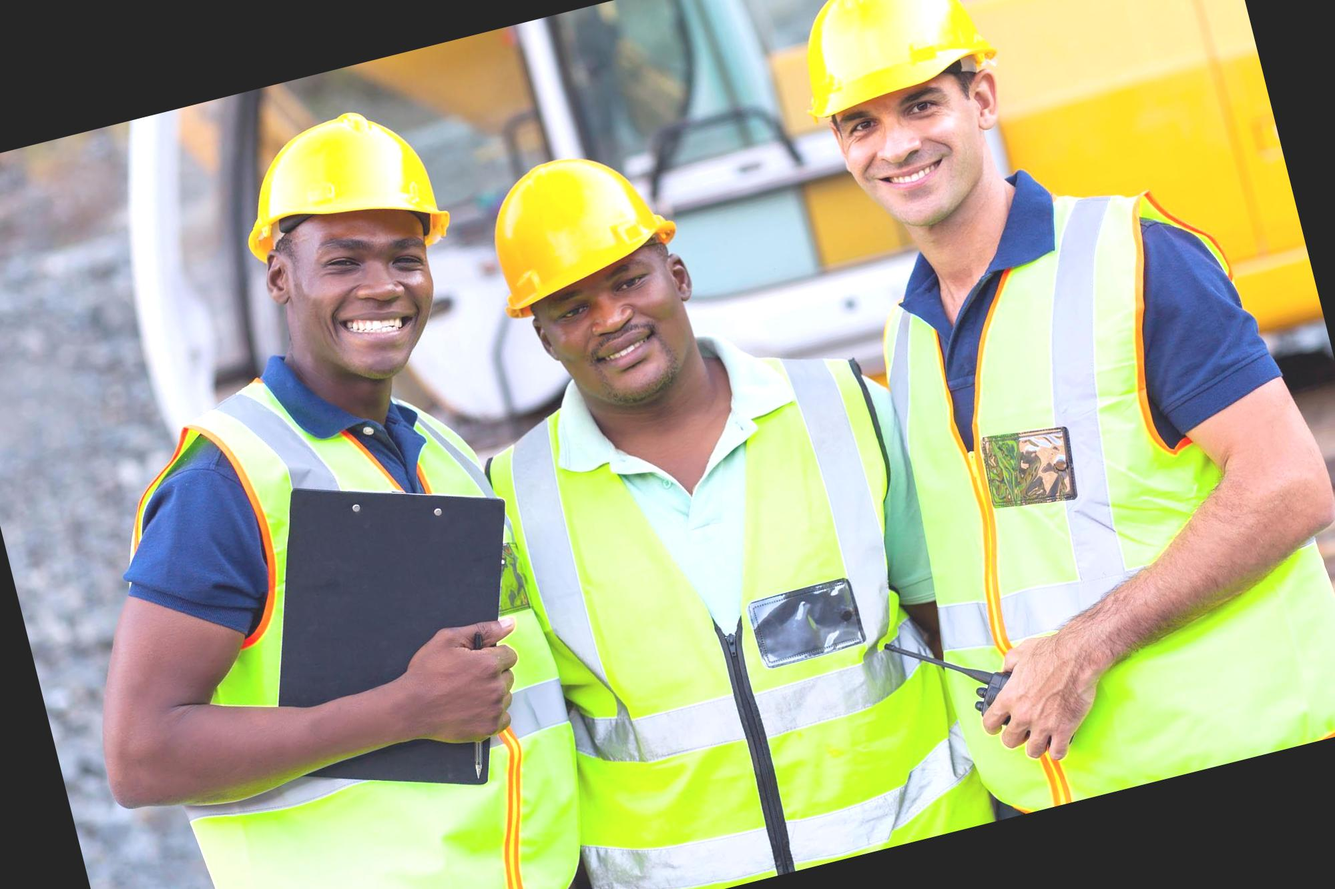helmet: (217, 88, 462, 280), (452, 125, 680, 314), (772, 0, 1018, 139)
person: (3, 90, 623, 889), (749, 0, 1335, 828), (431, 94, 967, 889)
